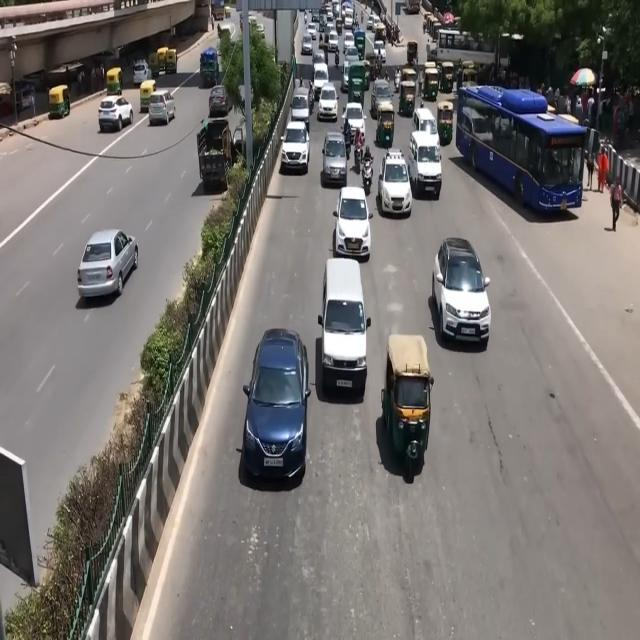auto: (383, 334, 435, 471), (376, 104, 395, 148), (436, 100, 454, 145), (48, 84, 70, 120), (105, 67, 124, 98), (139, 80, 157, 112), (157, 46, 170, 74), (148, 51, 161, 77), (165, 48, 177, 74)
bike-auto: (362, 142, 374, 203), (360, 146, 374, 192), (610, 179, 622, 231), (353, 130, 364, 171), (343, 126, 352, 160), (372, 56, 382, 80), (394, 66, 402, 92), (391, 26, 399, 45), (418, 71, 423, 97), (309, 92, 315, 113), (334, 47, 340, 66), (353, 10, 359, 28)
